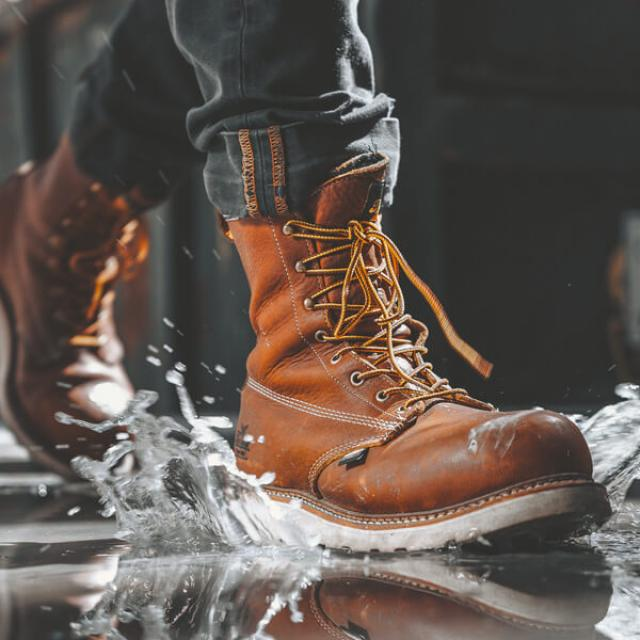Boots: (4, 117, 616, 556)
